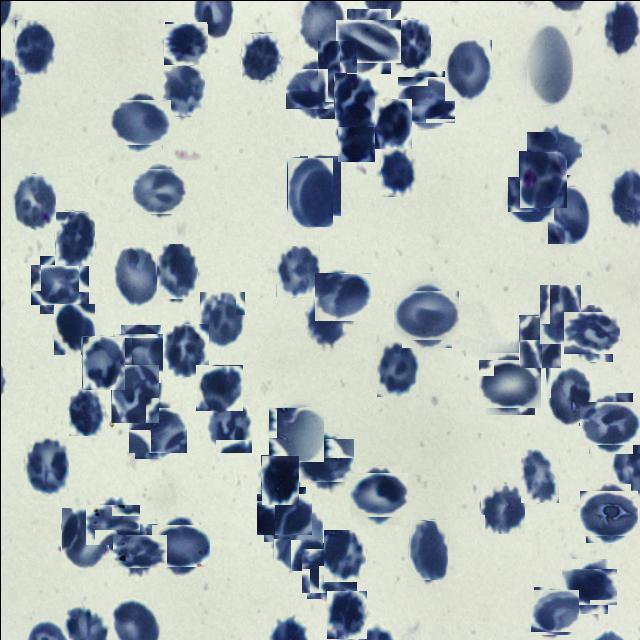red blood cell: (526, 24, 572, 104), (286, 156, 332, 226), (398, 286, 454, 343), (482, 355, 538, 411), (340, 13, 396, 68), (272, 509, 322, 570), (268, 406, 322, 462), (60, 506, 108, 568), (112, 94, 166, 148), (545, 363, 592, 425), (112, 245, 159, 306), (444, 39, 491, 100), (110, 363, 158, 422), (584, 396, 636, 449), (518, 150, 566, 207), (131, 403, 183, 455), (399, 73, 451, 125), (582, 486, 634, 538), (316, 270, 368, 322), (23, 436, 68, 494), (298, 154, 340, 216), (352, 469, 403, 520), (198, 290, 244, 346), (205, 396, 251, 452), (10, 172, 56, 228), (154, 520, 204, 571), (299, 435, 350, 485), (538, 283, 580, 343), (547, 186, 591, 243), (34, 259, 84, 309), (289, 64, 339, 114), (528, 128, 578, 178), (303, 545, 353, 595), (316, 39, 356, 101), (134, 166, 184, 215), (566, 308, 616, 357), (162, 323, 208, 376), (116, 328, 164, 378), (333, 72, 377, 126), (260, 489, 308, 538), (408, 519, 447, 579), (156, 243, 197, 300), (81, 335, 124, 389), (336, 100, 374, 161), (376, 341, 418, 396), (14, 19, 56, 74), (88, 500, 136, 548), (479, 482, 524, 533), (275, 244, 319, 296), (162, 63, 204, 116), (518, 314, 560, 367), (54, 210, 94, 265), (323, 529, 365, 581), (195, 364, 242, 410), (54, 303, 96, 354), (566, 562, 612, 608), (507, 175, 553, 221), (532, 587, 577, 633), (520, 448, 558, 502), (390, 18, 430, 68), (117, 528, 161, 572), (240, 32, 280, 80), (326, 590, 366, 638), (260, 454, 298, 504), (374, 98, 411, 148), (68, 386, 105, 435), (164, 22, 206, 64), (380, 146, 415, 196), (308, 298, 346, 344)
